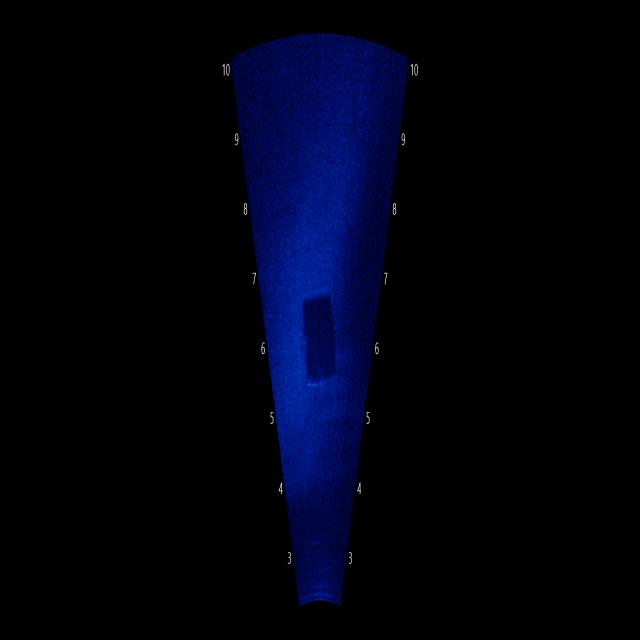square: (291, 270, 345, 403)
